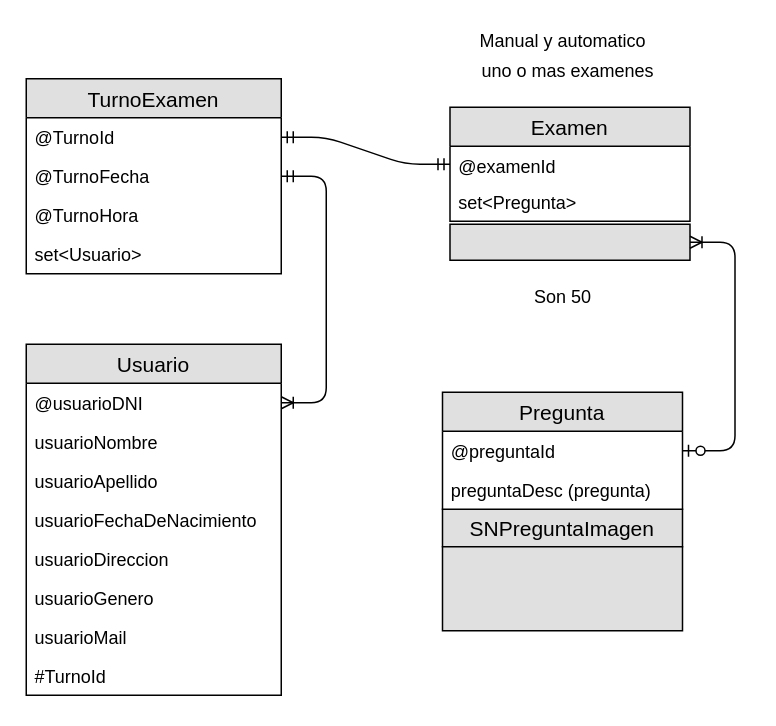
The diagram is 776 pixels wide and 726 high, and some of its shapes have lost their labels. The centre of each missing label's shape, as x and y in pixels:
"SNPregunta" belongs at point (569, 241).
"SNPreguntaOpciones (Opciones de respuestas)" belongs at point (561, 588).
